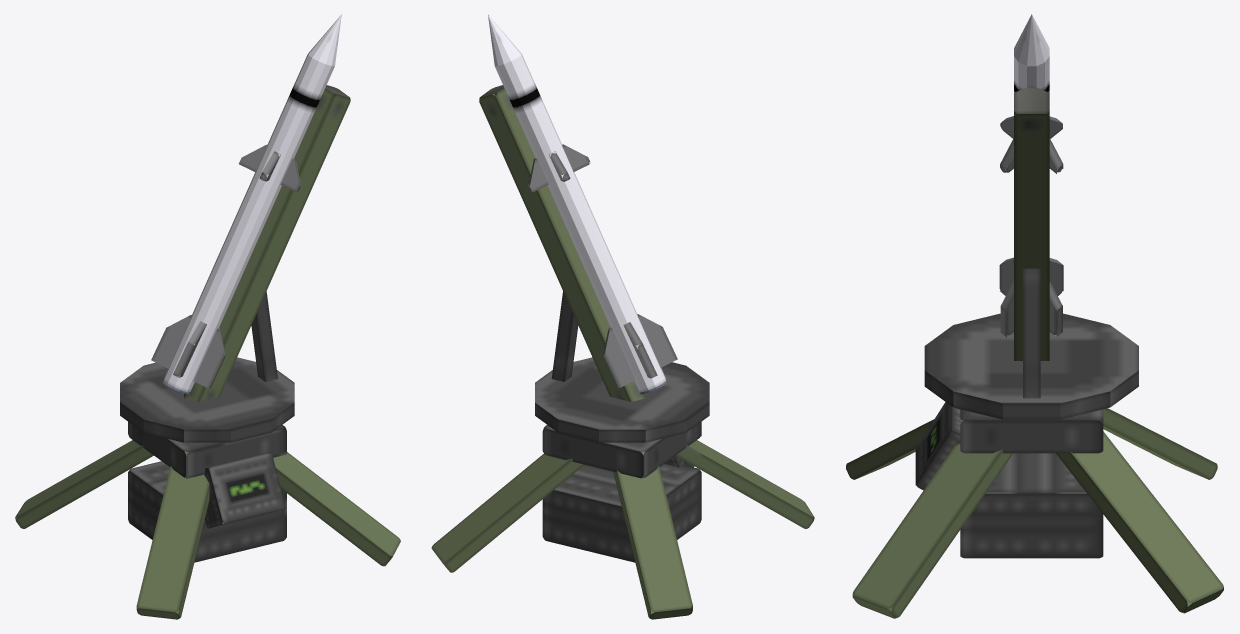
Rendered from turret_sam.obj.
3 renders of one model, left to right at view 1: azimuth 30°, elevation 25°; view 2: azimuth 150°, elevation 25°; view 3: azimuth 270°, elevation 25°, orthographic. The views are drawn at different scales.
Parts seen in each view (by area): view 1: Base, Launcher, MissileLoaded; view 2: Base, Launcher, MissileLoaded; view 3: Base, Launcher, MissileLoaded.
Part boxes in pixels (x1=…): Base: x1=15, y1=422, x2=400, y2=619; Launcher: x1=120, y1=85, x2=350, y2=442; MissileLoaded: x1=151, y1=14, x2=341, y2=394; Base: x1=431, y1=422, x2=814, y2=619; Launcher: x1=479, y1=85, x2=709, y2=442; MissileLoaded: x1=488, y1=14, x2=677, y2=394; Base: x1=846, y1=402, x2=1223, y2=618; Launcher: x1=924, y1=86, x2=1138, y2=419; MissileLoaded: x1=999, y1=14, x2=1063, y2=337.
Size of the model in its own units: 2.67 by 4.69 by 2.67.
Materials: 1 (1 with a texture image).
